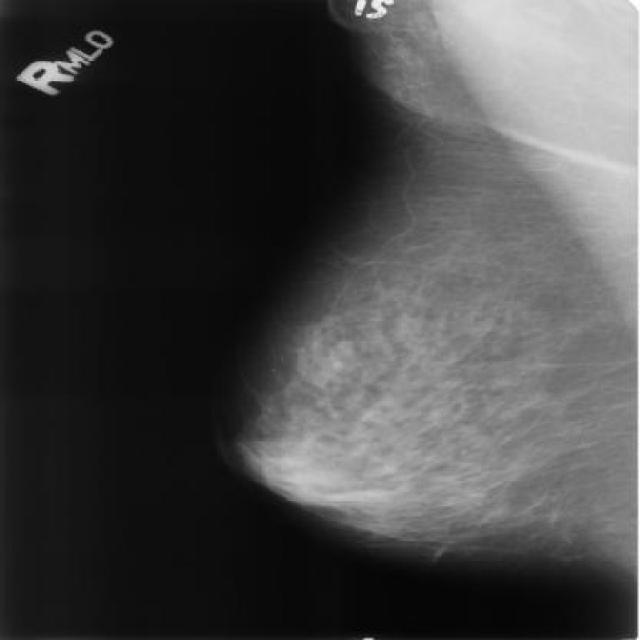tumor: (234, 422, 436, 556)
